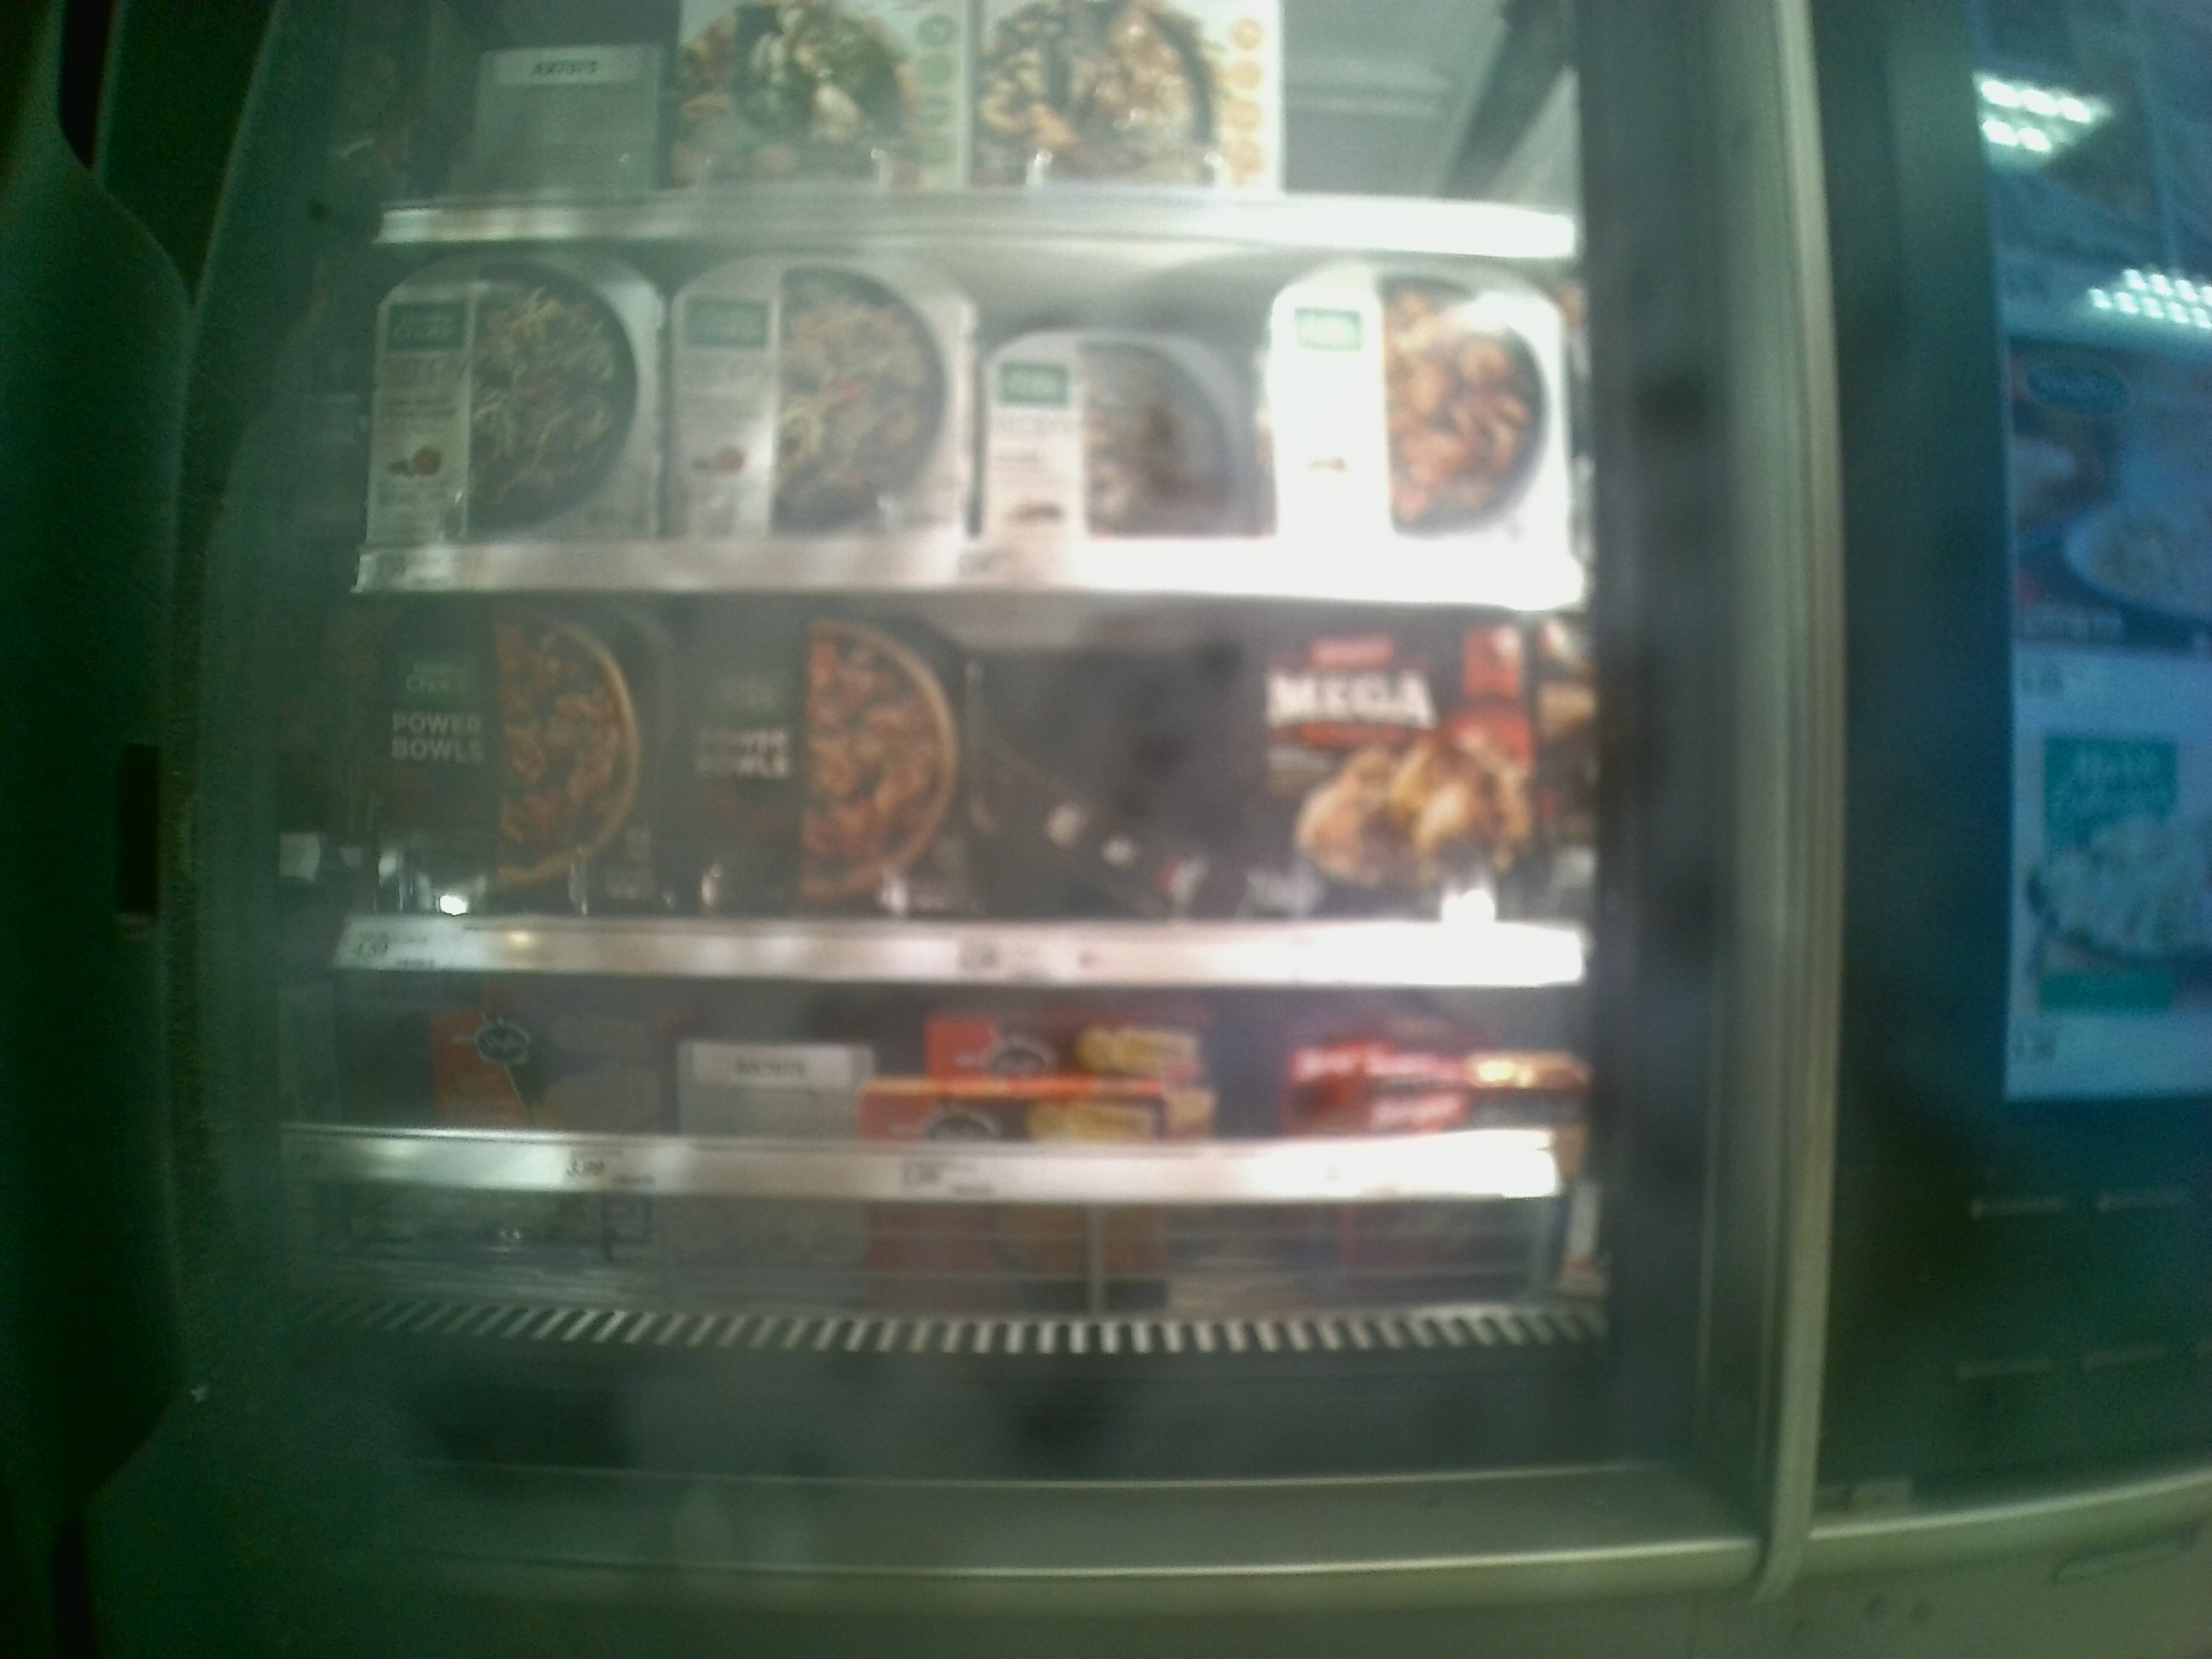shelf: (357, 589, 1590, 993), (362, 230, 1604, 613)
